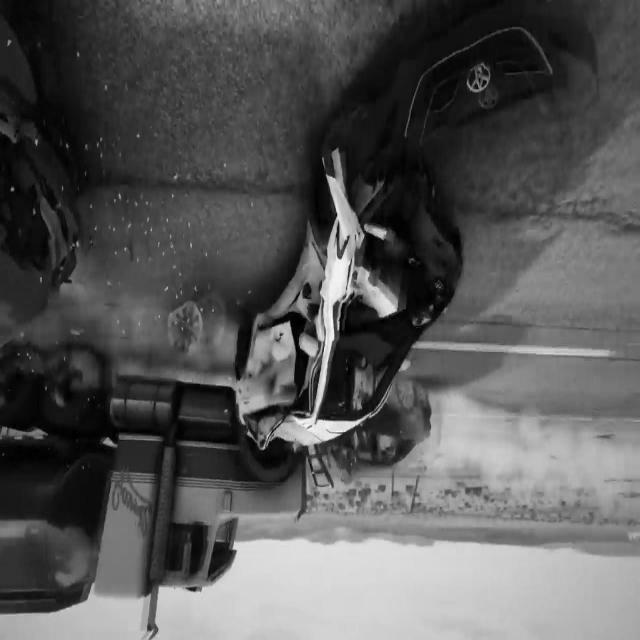severe: (230, 139, 468, 521)
